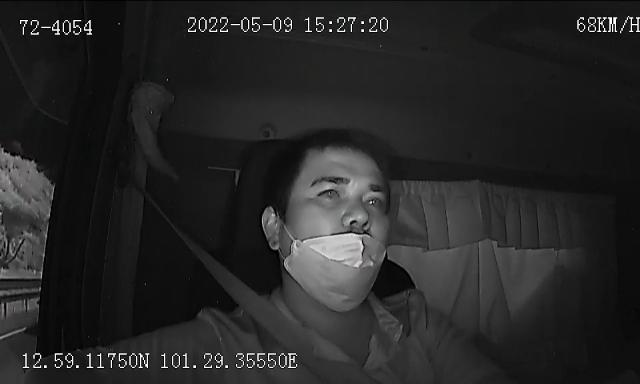SafeDriving: (312, 179, 348, 205), (358, 187, 390, 212)
Seatbelt: (180, 234, 376, 384)
